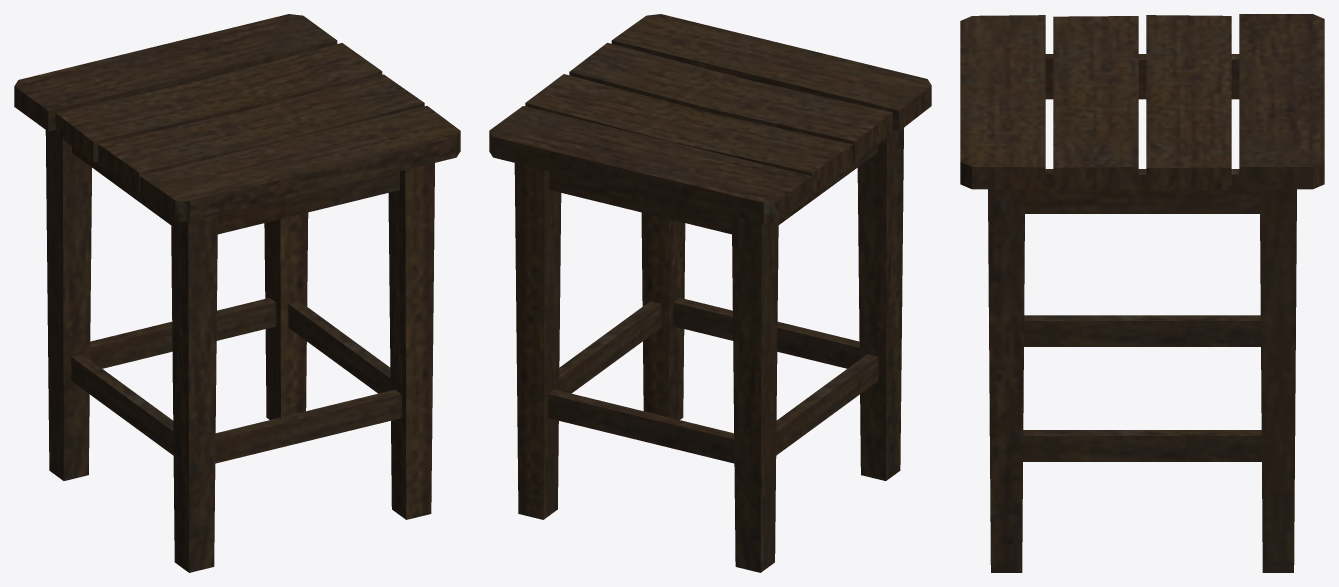
File: chair_mp_1_1.obj
3 views of the same model, side by side, from view 1: azimuth 30°, elevation 25°; view 2: azimuth 150°, elevation 25°; view 3: azimuth 270°, elevation 25° (orthographic). The views are drawn at different scales.
Visible parts, largest first — view 1: chair_mp_1_1; view 2: chair_mp_1_1; view 3: chair_mp_1_1.
Part boxes in pixels (<box>): chair_mp_1_1: <box>14,14,460,572</box>; chair_mp_1_1: <box>489,14,931,572</box>; chair_mp_1_1: <box>960,14,1324,572</box>.
Size of the model in its own units: 0.4707 by 0.594 by 0.47.
